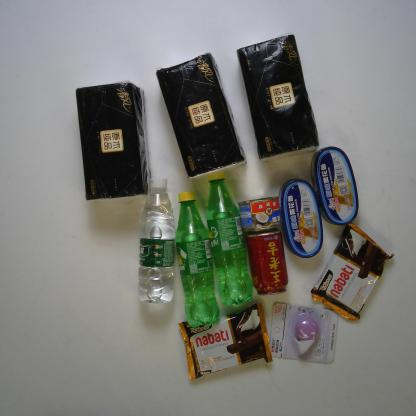Canned Food: (310, 136, 358, 223), (277, 178, 323, 258), (240, 194, 283, 232)
Dessert: (311, 219, 394, 317), (178, 302, 272, 382)
Drink: (203, 168, 254, 304), (176, 190, 222, 327), (132, 174, 178, 306), (247, 228, 290, 297)
Stationery: (265, 298, 340, 363)
Tissue: (156, 52, 245, 179), (238, 32, 322, 157), (74, 80, 152, 200)
